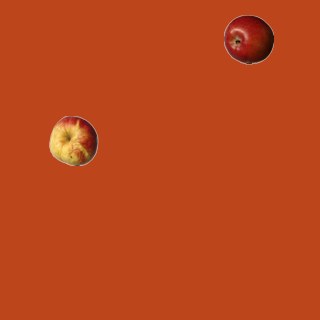Apple Braeburn: (223, 14, 273, 64)
Apple Red Yellow 1: (48, 115, 98, 165)
